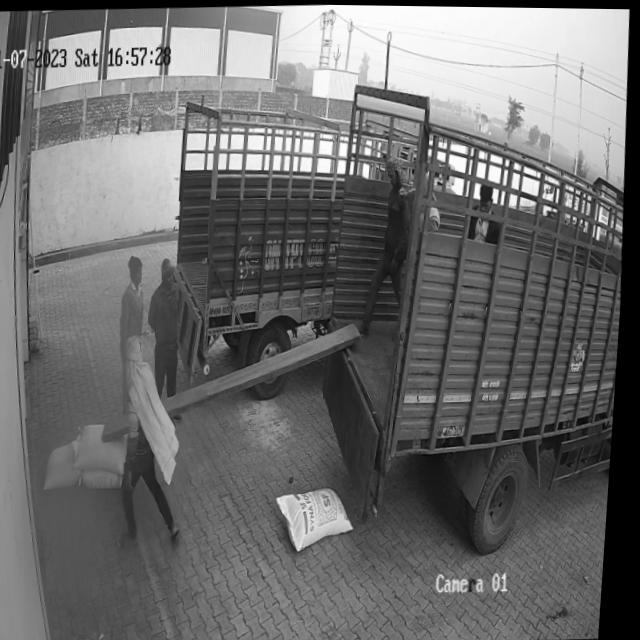sack: (280, 485, 362, 553), (78, 421, 134, 475), (46, 442, 89, 490), (83, 468, 133, 491)
